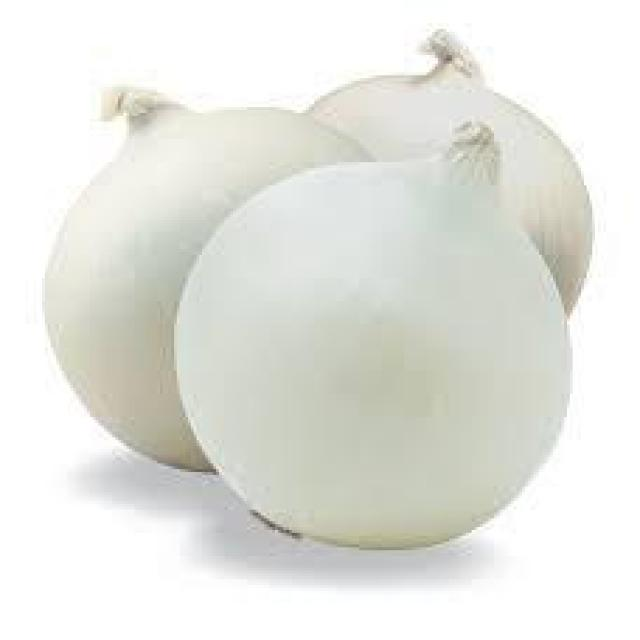Onion: (174, 122, 581, 550), (39, 67, 385, 469), (298, 23, 595, 322)
